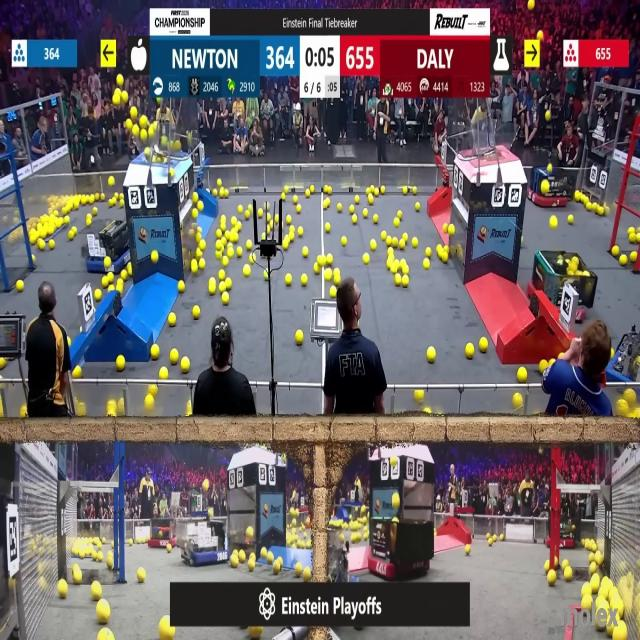ball_airborne: (392, 493, 400, 508), (139, 115, 148, 128), (112, 92, 120, 106), (132, 106, 140, 120), (120, 92, 128, 104), (116, 74, 123, 87), (140, 130, 147, 142), (203, 481, 210, 493), (173, 141, 181, 151), (528, 0, 535, 11), (147, 128, 153, 140), (133, 126, 140, 136), (127, 118, 133, 128), (390, 456, 396, 466), (544, 111, 549, 121), (144, 148, 150, 156), (163, 136, 168, 145), (152, 155, 158, 162)
ball_ground: (98, 602, 110, 626), (93, 584, 102, 601), (180, 356, 189, 372), (60, 581, 68, 599), (514, 393, 524, 407), (591, 579, 600, 594), (107, 403, 116, 418), (518, 367, 527, 381), (466, 344, 474, 359), (116, 355, 124, 370), (138, 568, 146, 583), (74, 569, 82, 584), (209, 280, 217, 295), (145, 395, 153, 410), (546, 570, 554, 585), (150, 345, 158, 359), (191, 306, 199, 320), (427, 348, 435, 362), (274, 560, 282, 574), (582, 594, 590, 608), (99, 630, 110, 640), (76, 406, 85, 418), (148, 384, 157, 396), (295, 331, 302, 346), (171, 350, 179, 363), (564, 568, 572, 581), (481, 339, 488, 353), (169, 313, 176, 327), (304, 567, 311, 581), (103, 260, 110, 274), (74, 365, 82, 377), (161, 366, 169, 378), (232, 556, 240, 568), (150, 250, 158, 262), (221, 291, 228, 304), (294, 563, 301, 576), (15, 281, 23, 292), (416, 390, 424, 401), (324, 270, 332, 281), (178, 280, 185, 292), (244, 266, 251, 278), (224, 279, 231, 291), (190, 262, 197, 274), (218, 281, 225, 293), (19, 409, 26, 421), (630, 252, 638, 262), (246, 527, 254, 537), (248, 560, 255, 571), (539, 360, 546, 371), (551, 217, 558, 228), (285, 275, 292, 286), (621, 254, 628, 265), (107, 558, 114, 569), (302, 275, 309, 286), (334, 269, 341, 280), (96, 289, 102, 301), (225, 248, 233, 257), (108, 274, 114, 286), (628, 235, 636, 244), (401, 276, 408, 286), (362, 253, 369, 263), (325, 254, 332, 264), (401, 266, 408, 276), (611, 246, 618, 256), (329, 287, 336, 297), (314, 265, 321, 275), (398, 240, 405, 250), (341, 237, 348, 247), (115, 282, 122, 292), (370, 240, 376, 251), (395, 275, 401, 286), (448, 223, 454, 234), (543, 560, 549, 571), (102, 277, 108, 288), (268, 552, 274, 563), (574, 190, 580, 201), (218, 271, 225, 280), (215, 241, 222, 250), (233, 234, 240, 243), (38, 241, 45, 250), (348, 205, 355, 214), (236, 221, 243, 230), (597, 207, 604, 216), (245, 207, 252, 216), (413, 238, 419, 248), (464, 543, 470, 553), (0, 358, 6, 368), (48, 240, 54, 250), (237, 247, 243, 257), (391, 265, 397, 275), (120, 272, 126, 282), (216, 250, 222, 260), (128, 265, 133, 277), (587, 202, 593, 212), (367, 196, 373, 206), (240, 552, 246, 562), (634, 234, 640, 244), (318, 254, 324, 264), (88, 216, 94, 226), (198, 202, 204, 212), (108, 176, 114, 186), (191, 209, 197, 219), (387, 248, 394, 256), (435, 246, 442, 254), (562, 560, 569, 568), (263, 550, 268, 561), (425, 248, 431, 257), (283, 241, 289, 250), (222, 256, 228, 265), (246, 241, 252, 250), (200, 261, 206, 270), (371, 214, 377, 223), (216, 231, 222, 240), (324, 222, 330, 231), (296, 226, 302, 235), (338, 204, 344, 213), (286, 215, 292, 224), (559, 352, 565, 361), (195, 249, 201, 258), (200, 241, 206, 250), (232, 217, 238, 226), (98, 553, 104, 562), (324, 185, 330, 194), (444, 245, 450, 254), (352, 533, 358, 542), (340, 537, 346, 546), (304, 247, 309, 257), (424, 261, 429, 271), (324, 200, 329, 210), (249, 254, 254, 264), (387, 261, 392, 271), (392, 238, 397, 248), (387, 237, 392, 247), (195, 232, 200, 242), (192, 191, 197, 201), (249, 554, 256, 561), (362, 209, 368, 217), (352, 215, 358, 223), (68, 233, 74, 241), (381, 233, 387, 241), (354, 198, 360, 206), (242, 212, 248, 220), (402, 186, 408, 194), (108, 200, 114, 208), (396, 210, 402, 218), (220, 215, 226, 223), (212, 188, 218, 196), (186, 410, 192, 418), (219, 188, 225, 196), (536, 32, 542, 40), (568, 215, 573, 224), (444, 253, 449, 262), (394, 218, 399, 227), (416, 203, 421, 212), (268, 213, 273, 222), (363, 531, 368, 540), (93, 208, 99, 215), (425, 409, 431, 416), (237, 206, 243, 213), (259, 234, 265, 241), (629, 226, 635, 233), (168, 544, 173, 552), (257, 209, 262, 217), (281, 192, 286, 200), (402, 234, 407, 242), (554, 559, 559, 567), (381, 186, 386, 194), (224, 233, 229, 241), (268, 224, 273, 232), (413, 186, 418, 194), (265, 272, 269, 281), (226, 242, 232, 248), (275, 215, 280, 222), (306, 190, 311, 197), (65, 216, 70, 223), (289, 235, 294, 242), (101, 192, 106, 199), (118, 201, 123, 208), (284, 186, 289, 193), (293, 198, 297, 206), (68, 339, 72, 347), (289, 225, 294, 231), (113, 192, 118, 198), (296, 206, 300, 213), (32, 255, 36, 262), (72, 226, 76, 233), (488, 538, 492, 545), (217, 179, 221, 186), (130, 538, 134, 545), (376, 188, 380, 195), (119, 192, 123, 199), (500, 534, 504, 540), (268, 204, 272, 210)
goal: (466, 122, 521, 160)
robot_blue: (83, 217, 133, 276), (183, 516, 230, 566), (608, 331, 640, 388)
robot_red: (532, 249, 597, 324), (371, 512, 434, 582), (528, 164, 571, 208), (149, 517, 178, 547)
